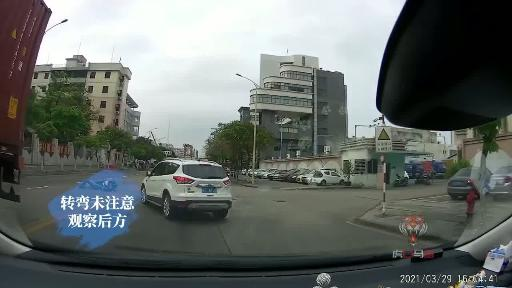Accident: (112, 227, 261, 270)
CAR: (110, 181, 172, 216)
